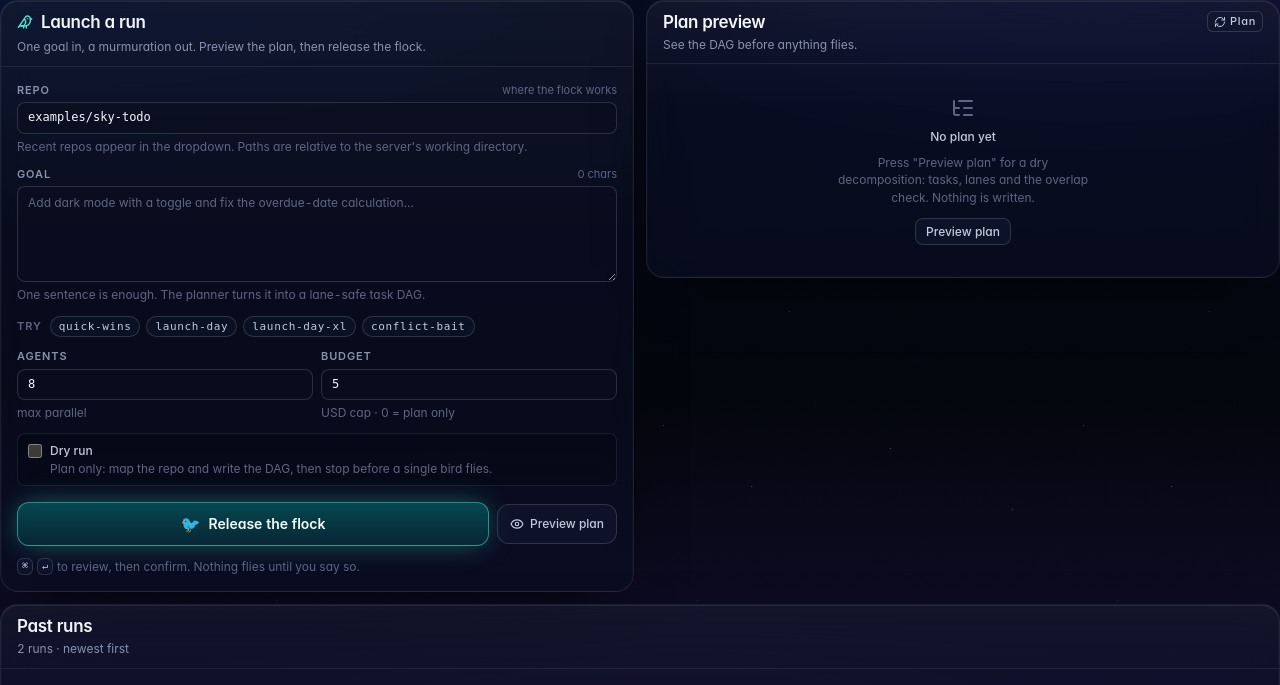
it: plan preview › flags the deliberate conflict-bait overlap and the validator issue
The image size is (1280, 685).
Click the button "conflict-bait": x=418, y=326 x1=362 y1=316 x2=475 y2=337
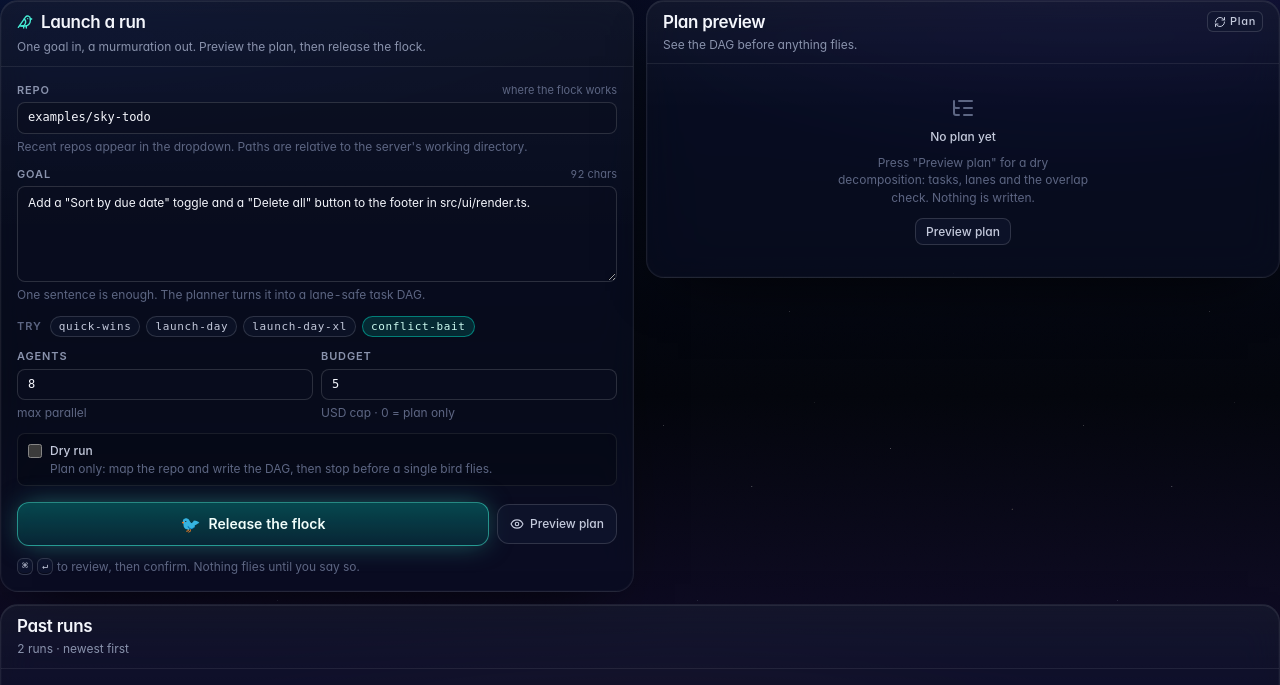
Click the button with test id "launch-preview-button": x=557, y=524 x1=497 y1=504 x2=617 y2=544
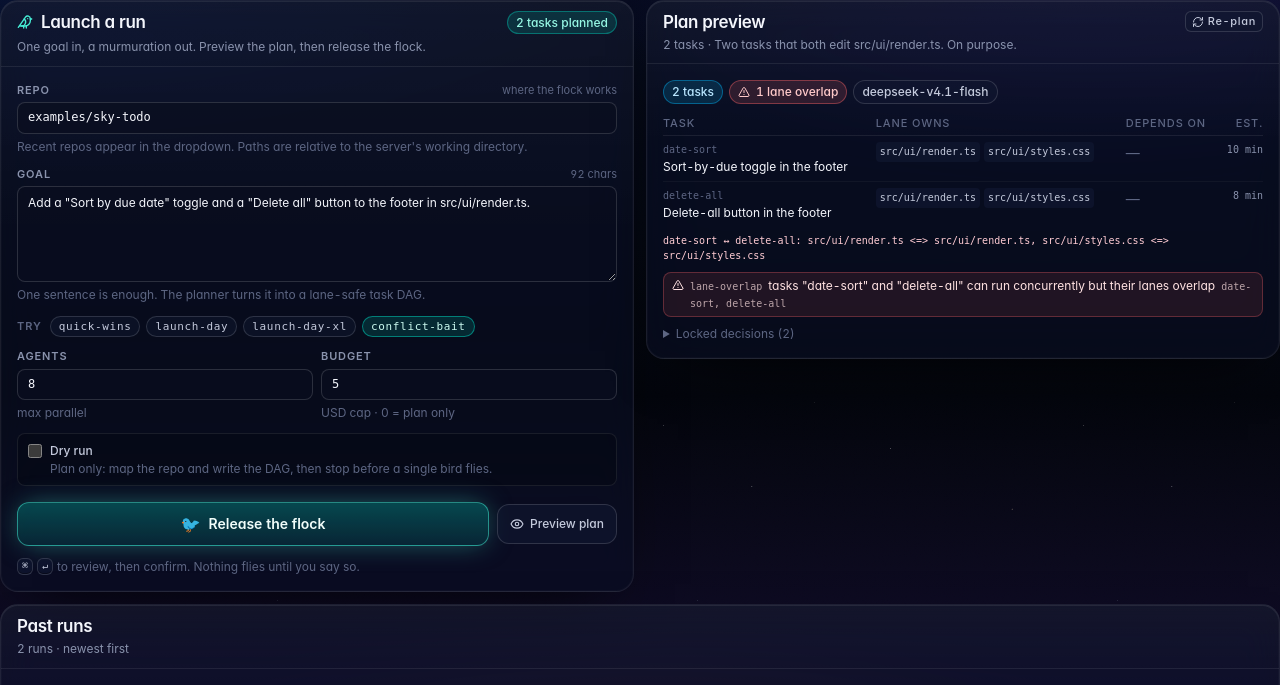
Check: the element with test id "launch-preview-ready" is shown, box x1=663 y1=80 x2=1263 y2=342
Check: the element with test id "launch-overlap-state" reads "1 lane overlap", box x1=729 y1=80 x2=847 y2=104
Check: the list with test id "launch-plan-issues" shows "lane-overlap", box x1=690 y1=281 x2=762 y2=292
